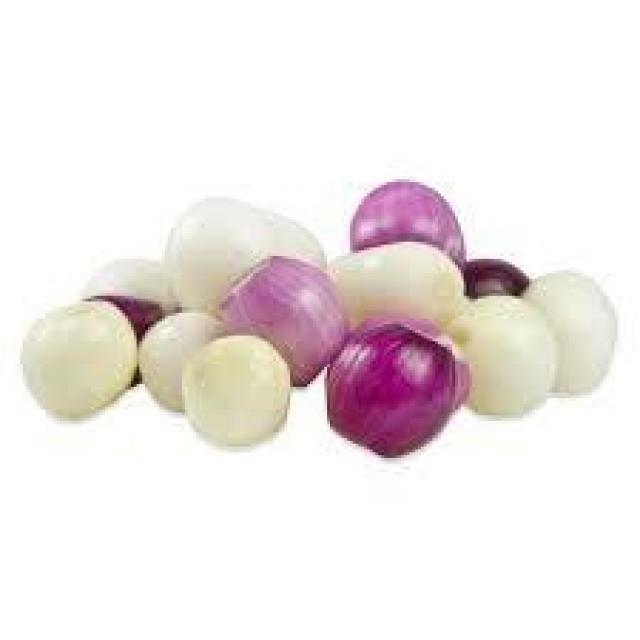Onion: (314, 318, 468, 466), (154, 188, 324, 313), (8, 294, 154, 431), (408, 292, 550, 425), (215, 250, 348, 387), (526, 252, 629, 402), (333, 234, 469, 346), (184, 337, 300, 459), (344, 168, 481, 264), (91, 260, 199, 357), (132, 310, 235, 410)
